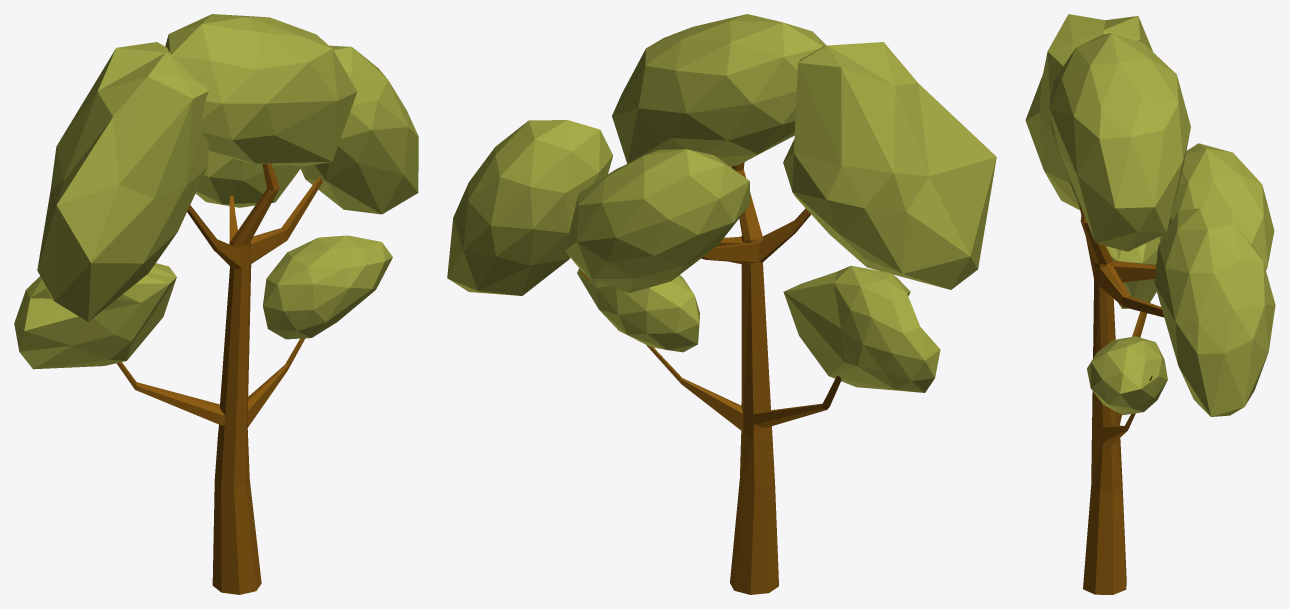
File: tree.fbx
3 renders of one model, left to right at view 1: azimuth 30°, elevation 25°; view 2: azimuth 150°, elevation 25°; view 3: azimuth 270°, elevation 25°, orthographic. The views are drawn at different scales.
Parts seen in each view (by area): view 1: Object_101; view 2: Object_101; view 3: Object_101.
Part boxes in pixels (x1,y1,x2,y2): Object_101: (14,14,418,594); Object_101: (447,14,996,594); Object_101: (1025,14,1275,594).
Size of the model in its own units: 621 by 1218 by 1474.
